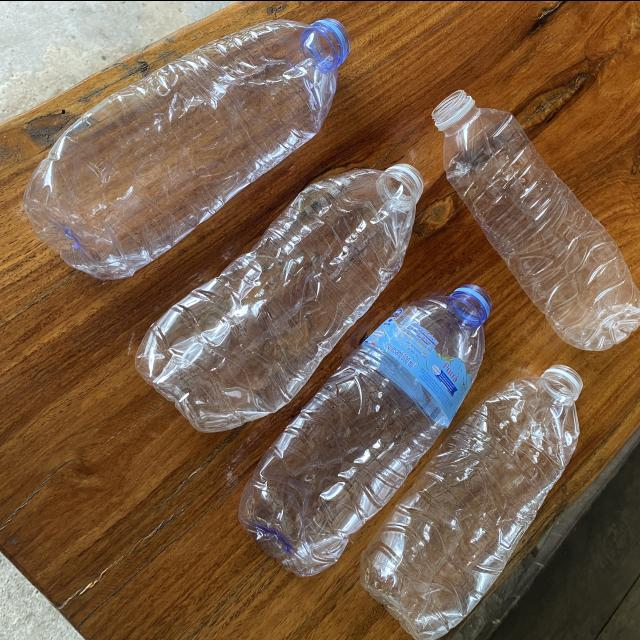plastik: (24, 17, 349, 278), (135, 162, 423, 431), (239, 283, 492, 576), (360, 365, 583, 640), (432, 89, 640, 349)
